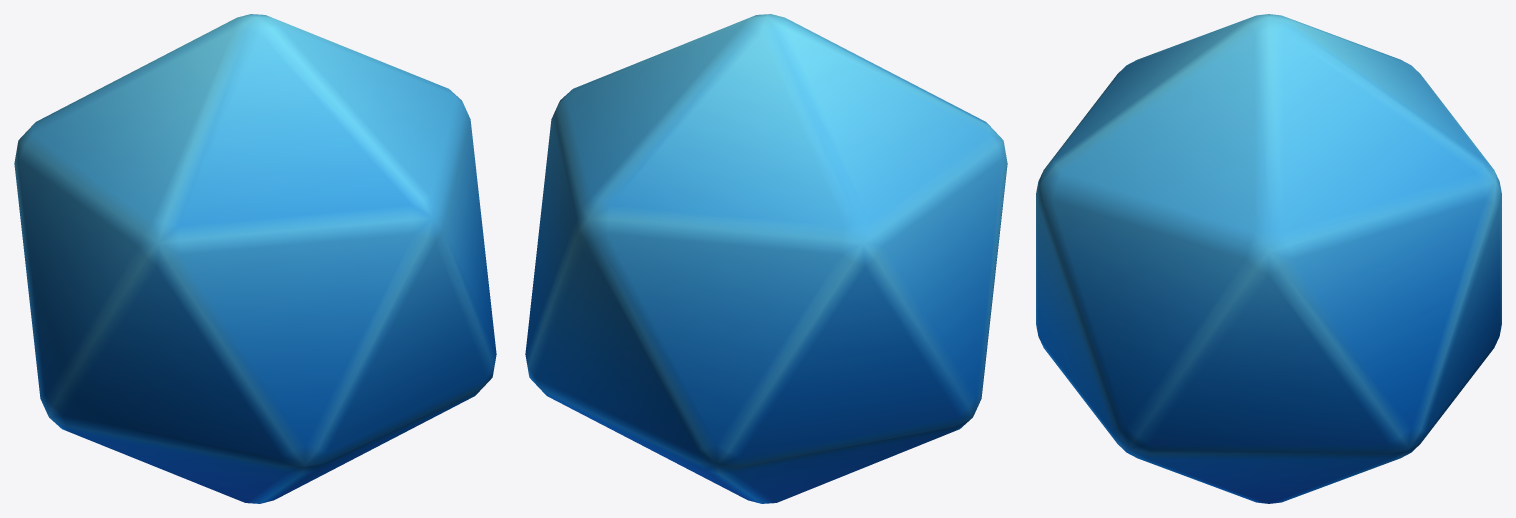
The model's file is SM_gem_001.fbx.
3 renders of one model, left to right at view 1: azimuth 30°, elevation 25°; view 2: azimuth 150°, elevation 25°; view 3: azimuth 270°, elevation 25°, orthographic.
Visible parts, largest first — view 1: SM_gem_001; view 2: SM_gem_001; view 3: SM_gem_001.
Part boxes in pixels (x1,y1,x2,y2): SM_gem_001: [14, 14, 496, 503]; SM_gem_001: [525, 14, 1007, 503]; SM_gem_001: [1036, 14, 1501, 503].
Size of the model in its own units: 40.17 by 44.17 by 38.59.
